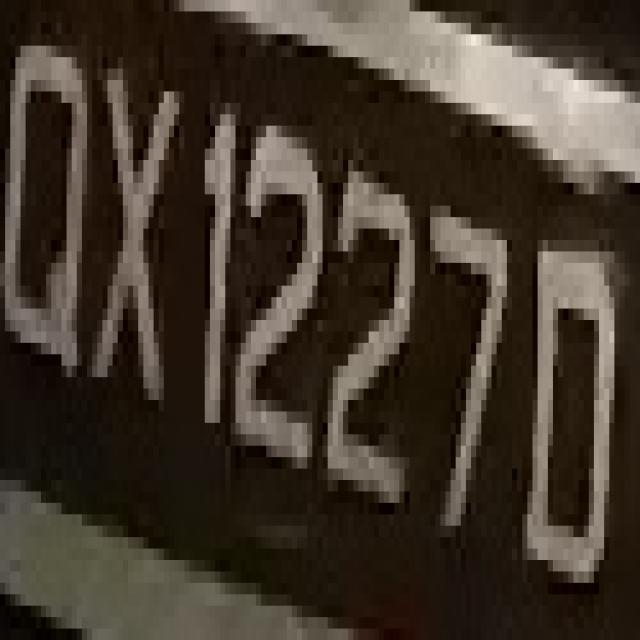1: (195, 68, 225, 526)
2: (205, 46, 328, 571), (328, 103, 420, 617)
7: (420, 137, 517, 583)
D: (512, 171, 625, 640)
Q: (5, 23, 92, 400)
X: (92, 23, 174, 446)
